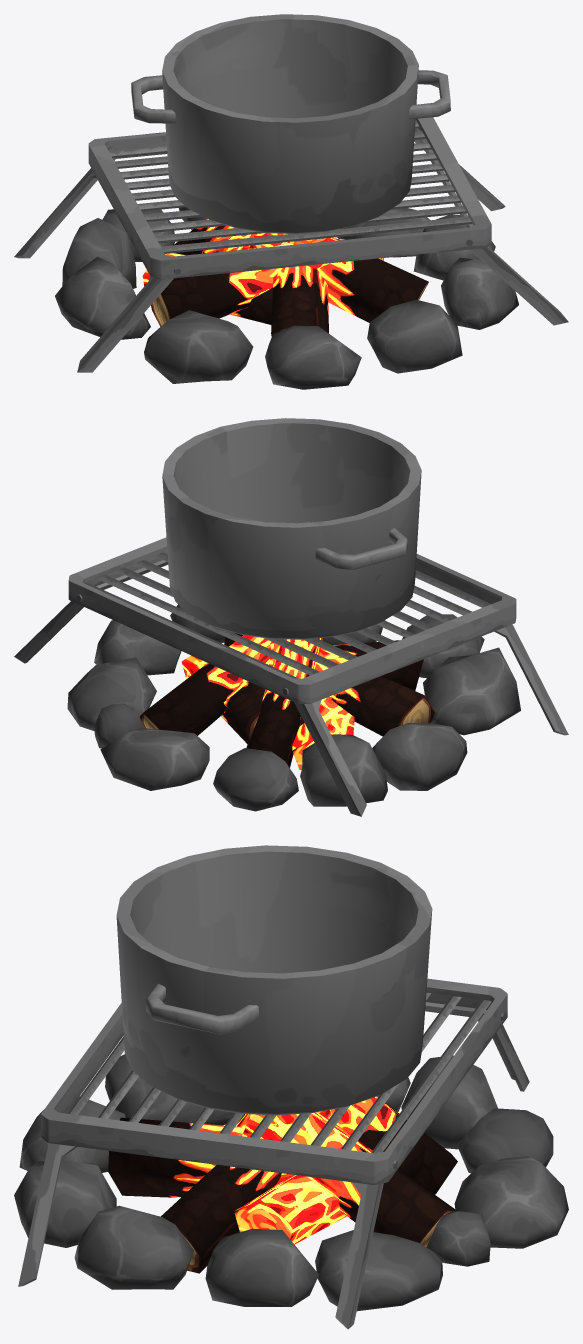
The model's file is CookingPot.fbx.
The picture shows the model from 3 angles, top to bottom: view 1: azimuth 30°, elevation 25°; view 2: azimuth 150°, elevation 25°; view 3: azimuth 270°, elevation 25°; orthographic projection. The views are drawn at different scales.
Parts seen in each view (by area): view 1: P_PROP_pot_02, P_PROP_campfire, P_PROP_grill, SM_PROP_grill_leg_01, SM_PROP_grill_leg_02; view 2: P_PROP_campfire, P_PROP_pot_02, P_PROP_grill, SM_PROP_grill_leg_01, SM_PROP_grill_leg_02; view 3: P_PROP_campfire, P_PROP_pot_02, P_PROP_grill, SM_PROP_grill_leg_02, SM_PROP_grill_leg_01.
Part boxes in pixels (<box>): P_PROP_pot_02: <box>131,14,450,233</box>; P_PROP_campfire: <box>55,207,518,389</box>; P_PROP_grill: <box>88,117,491,279</box>; SM_PROP_grill_leg_01: <box>14,146,180,372</box>; SM_PROP_grill_leg_02: <box>414,128,568,325</box>; P_PROP_campfire: <box>67,604,520,811</box>; P_PROP_pot_02: <box>162,418,421,639</box>; P_PROP_grill: <box>68,537,516,703</box>; SM_PROP_grill_leg_01: <box>283,624,568,816</box>; SM_PROP_grill_leg_02: <box>14,560,168,663</box>; P_PROP_campfire: <box>14,1054,568,1311</box>; P_PROP_pot_02: <box>116,845,432,1115</box>; P_PROP_grill: <box>41,978,507,1184</box>; SM_PROP_grill_leg_02: <box>18,1143,397,1329</box>; SM_PROP_grill_leg_01: <box>425,1002,529,1091</box>.
Bounding box in the file's own units: 109 × 54.82 × 87.41.
